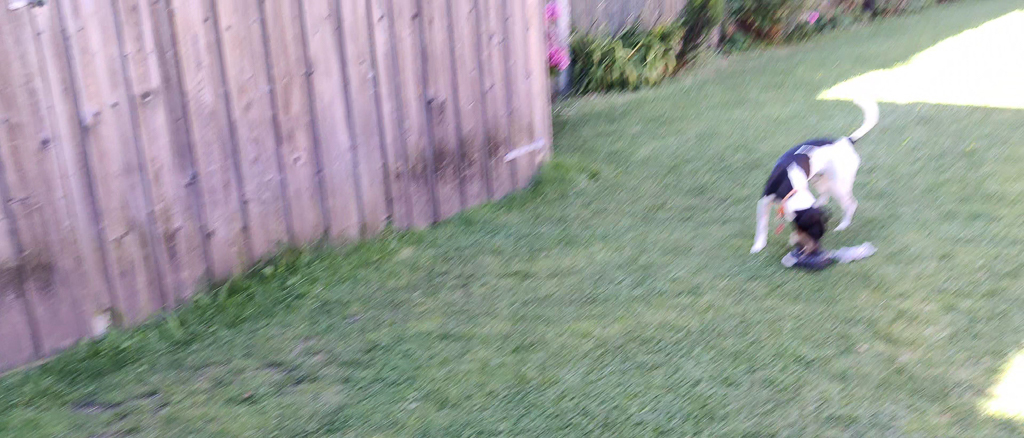Dog: (740, 85, 884, 262)
